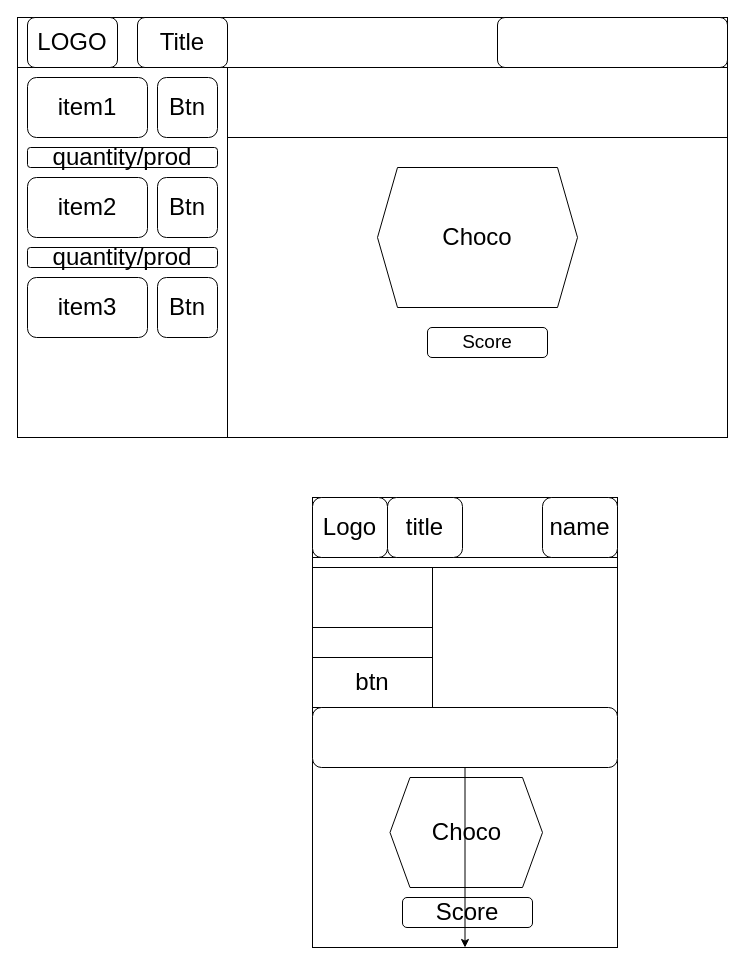
This 745x973 diagram has some shape labels left out. The shapes that lost their labels are listed below. From the top down, each one's box as (x1, y1, x2, y2) in pixels, then its label:
(496, 16, 728, 68): Your Bakery Name
(226, 66, 728, 138): Tuto
(312, 566, 432, 628): item
(312, 626, 432, 658): qty
(312, 706, 618, 768): Tuto / Random Message
